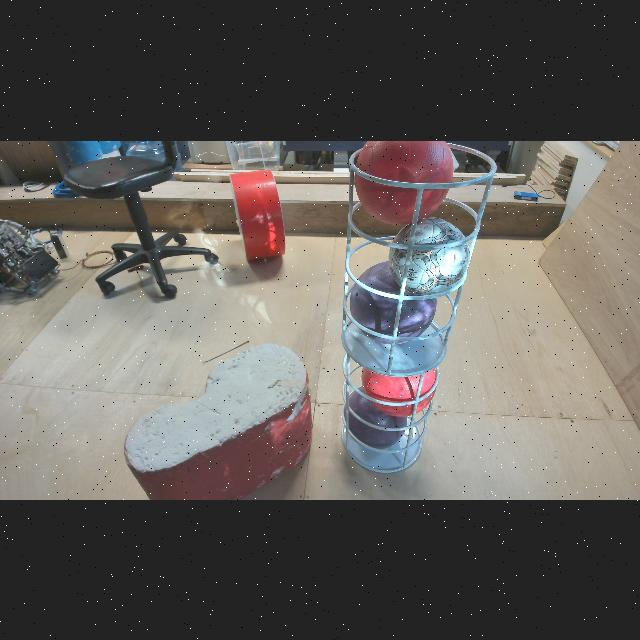P: (349, 260, 437, 344), (344, 383, 410, 451)
R: (353, 140, 455, 226), (361, 355, 439, 417)
S: (339, 140, 498, 378), (340, 346, 440, 474)
